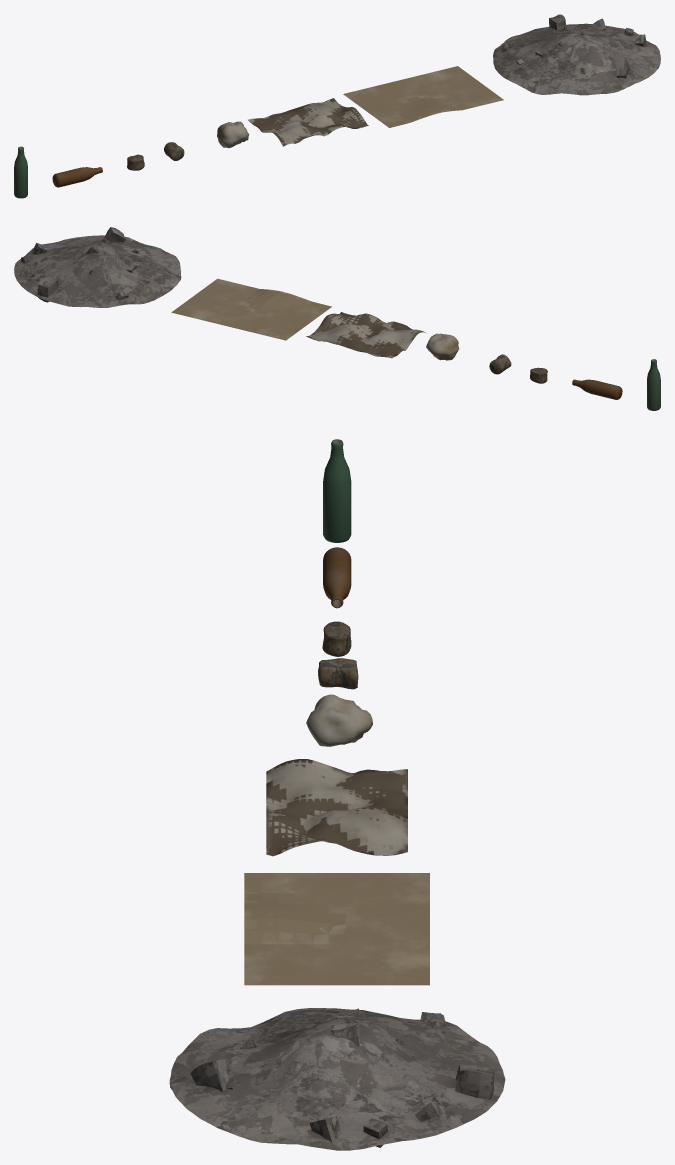
File: Trash_Set.fbx
3 views of the same model, one above another, from view 1: azimuth 30°, elevation 25°; view 2: azimuth 150°, elevation 25°; view 3: azimuth 270°, elevation 25° (orthographic). The views are drawn at different scales.
Parts seen in each view (by area): view 1: Debris, Card, Rag, Newspaper, BottleB, BottleA, CanB; view 2: Debris, Card, Rag, Newspaper, BottleB, BottleA, CanB; view 3: Debris, Card, Rag, BottleA, Newspaper, BottleB, CanB.
Boxes of the visible parts, box(x1,y1,x2,y2) form: Debris: box(493, 14, 660, 95); Card: box(343, 66, 503, 127); Rag: box(248, 98, 368, 146); Newspaper: box(217, 121, 249, 148); BottleB: box(52, 167, 102, 187); BottleA: box(14, 146, 27, 198); CanB: box(164, 142, 184, 160); Debris: box(14, 227, 181, 307); Card: box(171, 278, 331, 340); Rag: box(306, 312, 425, 358); Newspaper: box(426, 333, 459, 360); BottleB: box(572, 379, 622, 399); BottleA: box(647, 359, 660, 410); CanB: box(489, 354, 511, 374); Debris: box(169, 1008, 505, 1150); Card: box(244, 873, 429, 985); Rag: box(266, 759, 407, 856); BottleA: box(323, 439, 351, 542); Newspaper: box(306, 694, 372, 746); BottleB: box(323, 547, 351, 608); CanB: box(318, 658, 358, 689).
Bounding box in the file's own units: 3.31 × 0.2637 × 0.7596.
